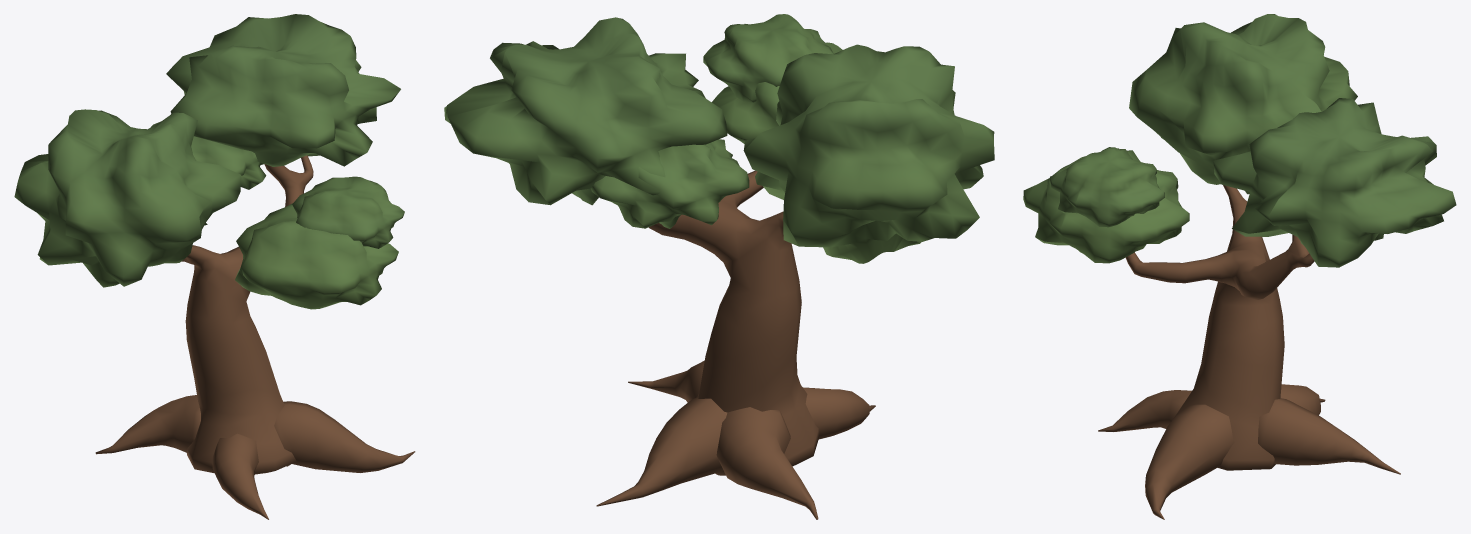
The model's file is tree4_1.fbx.
3 renders of one model, left to right at view 1: azimuth 30°, elevation 25°; view 2: azimuth 150°, elevation 25°; view 3: azimuth 270°, elevation 25°, orthographic. The views are drawn at different scales.
Parts seen in each view (by area): view 1: BezierCurve.004; view 2: BezierCurve.004; view 3: BezierCurve.004.
Part boxes in pixels (x1,y1,x2,y2): BezierCurve.004: (14, 14, 415, 519); BezierCurve.004: (444, 14, 994, 519); BezierCurve.004: (1023, 14, 1456, 519).
Size of the model in its own units: 2.94 by 2.68 by 2.8.
